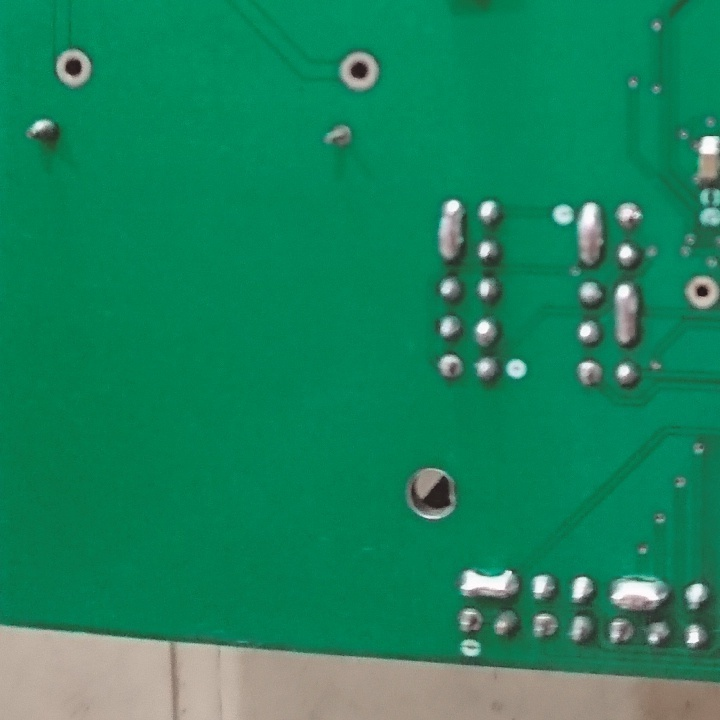F: (336, 50, 382, 93), (53, 46, 93, 90), (682, 274, 720, 311), (576, 355, 607, 390), (606, 615, 635, 650), (433, 352, 465, 383), (612, 199, 644, 230), (530, 609, 559, 642), (453, 607, 485, 635), (321, 122, 354, 149)
P: (610, 574, 670, 614), (455, 565, 518, 603), (573, 200, 604, 267), (436, 198, 467, 262), (615, 280, 643, 344)
